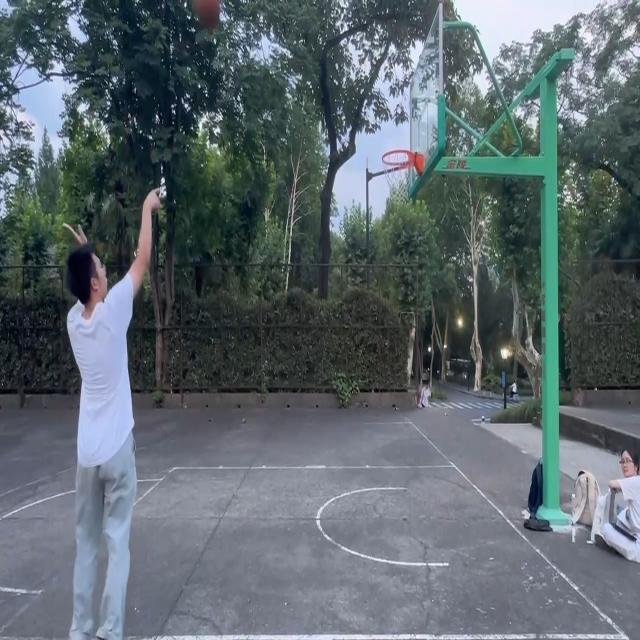basketball: (382, 150, 425, 204)
rim: (192, 1, 223, 27)
